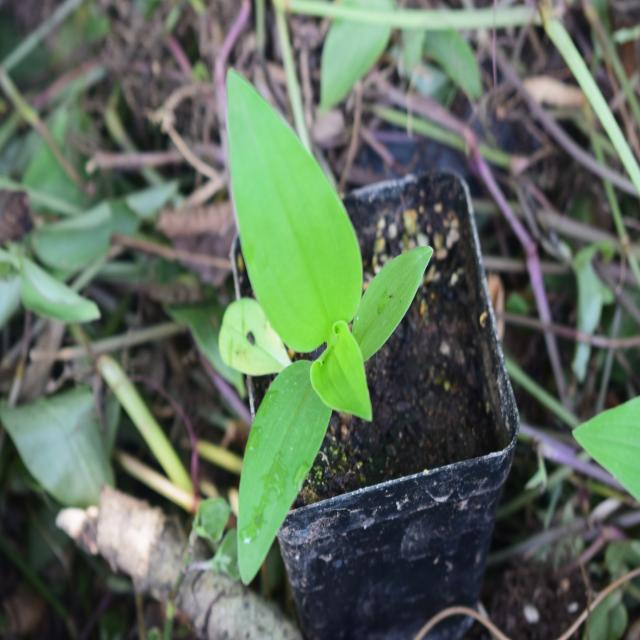Common Dayflower: (176, 74, 392, 536)
